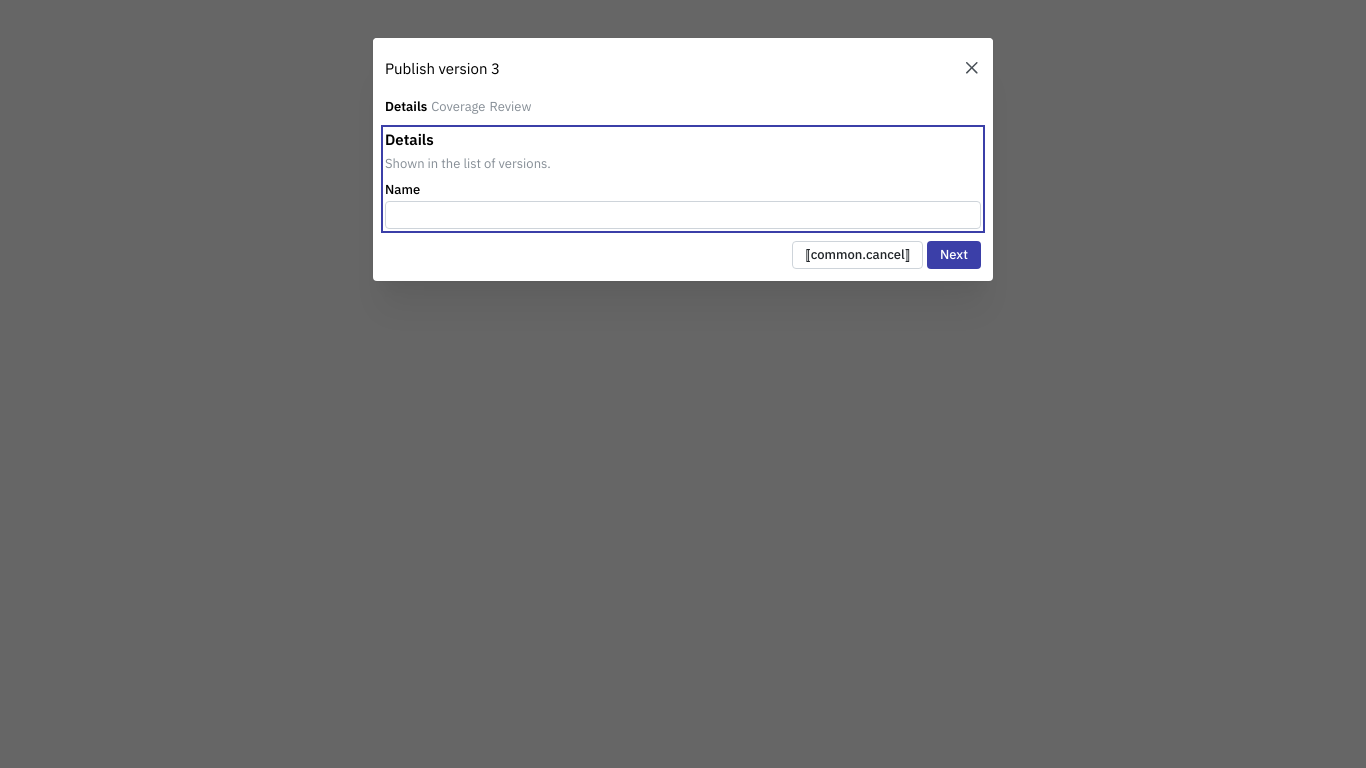
Test case: Wizard — validate не пускає далі й пояснює В КРОЦІ › порожнє обов’язкове поле лишає на місці й малює банер саме тут
This screenshot has width=1366, height=768.
Click the button with test id "wizard-next" at point(954, 255), box x1=927 y1=241 x2=981 y2=269
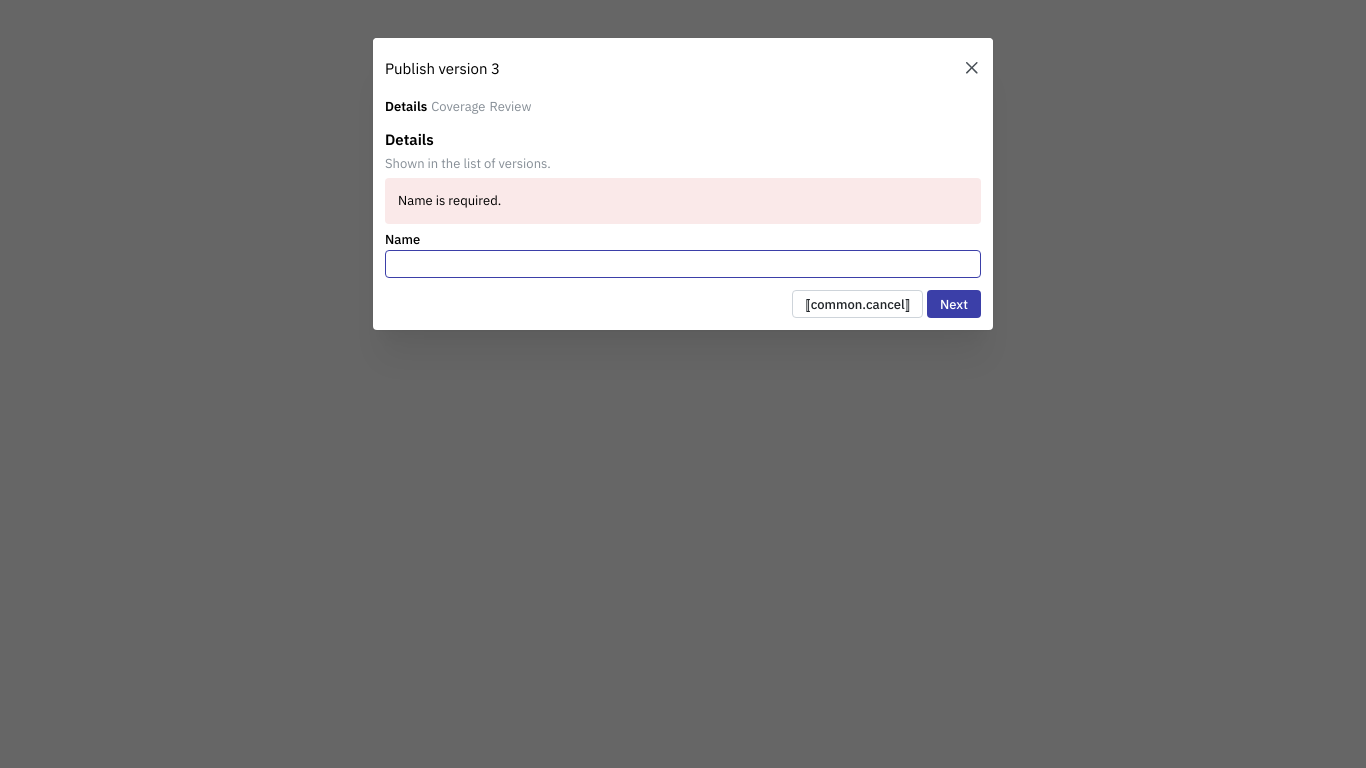
Expected: the message with test id "wizard-step-error" reads "Name is required.", x1=398 y1=193 x2=501 y2=210
